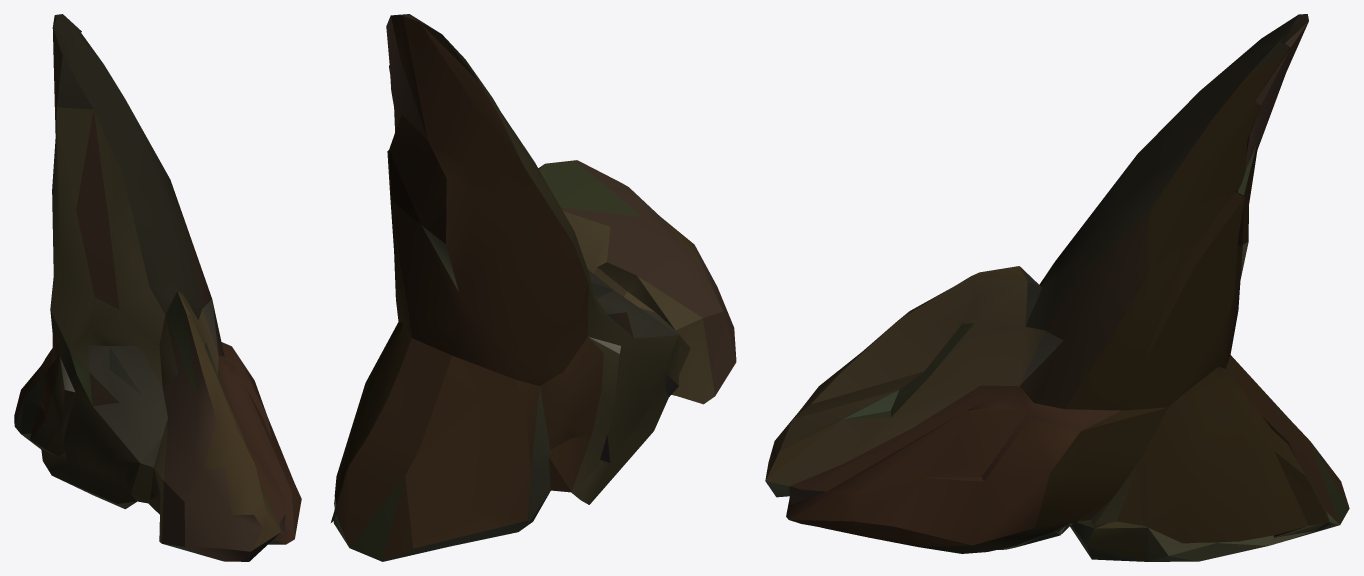
Rendered from Spike.fbx.
3 views of the same model, side by side, from view 1: azimuth 30°, elevation 25°; view 2: azimuth 150°, elevation 25°; view 3: azimuth 270°, elevation 25° (orthographic). The views are drawn at different scales.
Visible parts, largest first — view 1: Spike.001; view 2: Spike.001; view 3: Spike.001.
Part boxes in pixels (x1,y1,x2,y2): Spike.001: (14,14,301,561); Spike.001: (331,14,736,561); Spike.001: (765,14,1349,561).
Bounding box in the file's own units: 3.88 × 8.39 × 8.88.
Materials: 1 (1 with a texture image).
